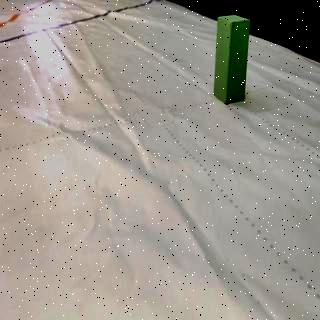greenbox: (212, 15, 250, 104)
